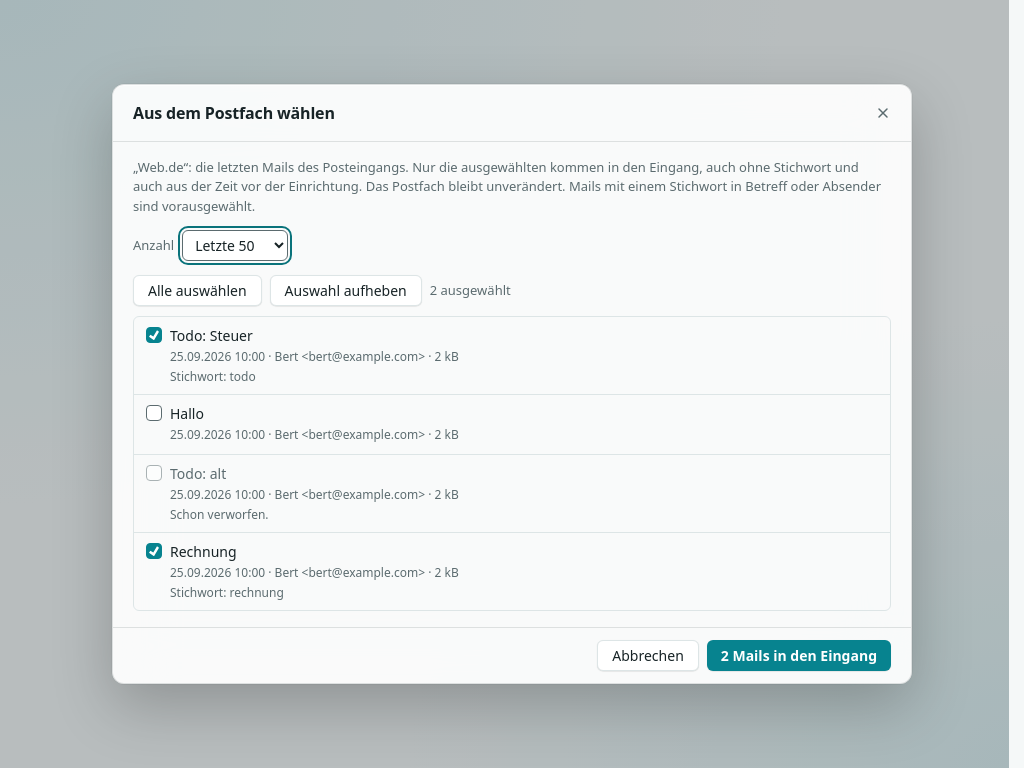
Scenario: MailboxPicker › lists the last 50 mails with keyword matches chosen and mails in the inbox blocked
Expected: the text "Todo: Steuer" is shown, [170,326,253,345]
Expected: the 1st checkbox is checked, [146,327,162,343]
What coordinates should you click on to do the following:
click the button "Alle auswählen"
I would click on:
 (197, 291)
Its box is [133,275,262,306].
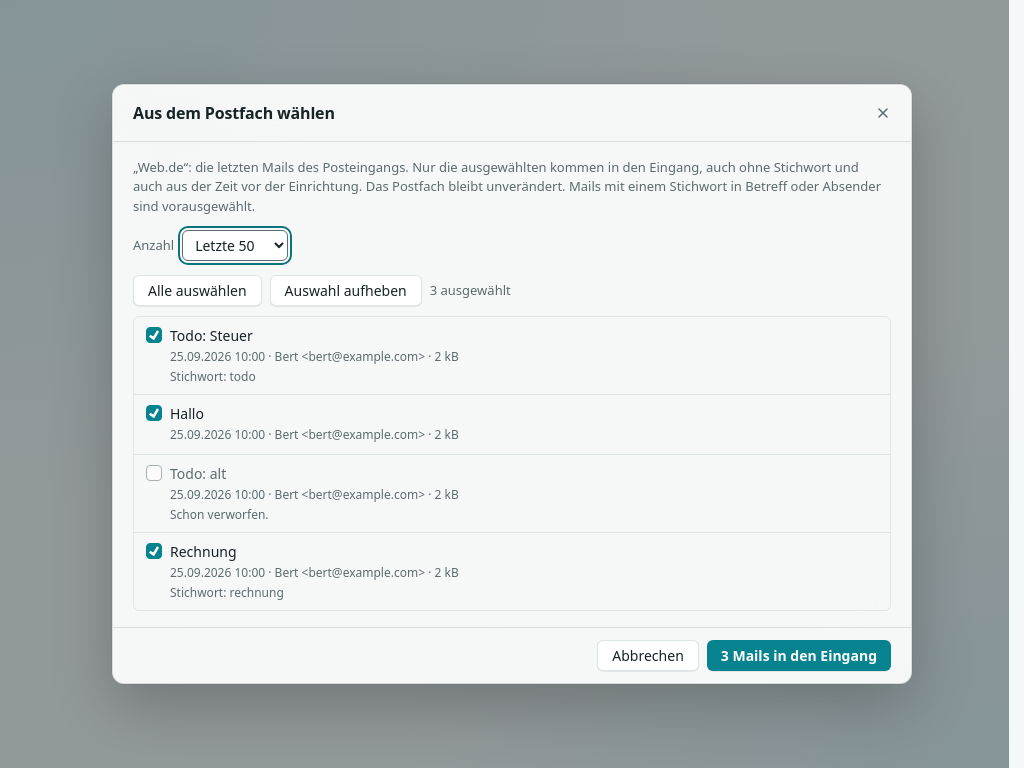
Result: the text "3 ausgewählt" is shown at [430,281,511,300]
What coordinates should you click on to do the following:
click the button "Auswahl aufheben"
I would click on:
 (346, 291)
Its box is [270,275,422,306].
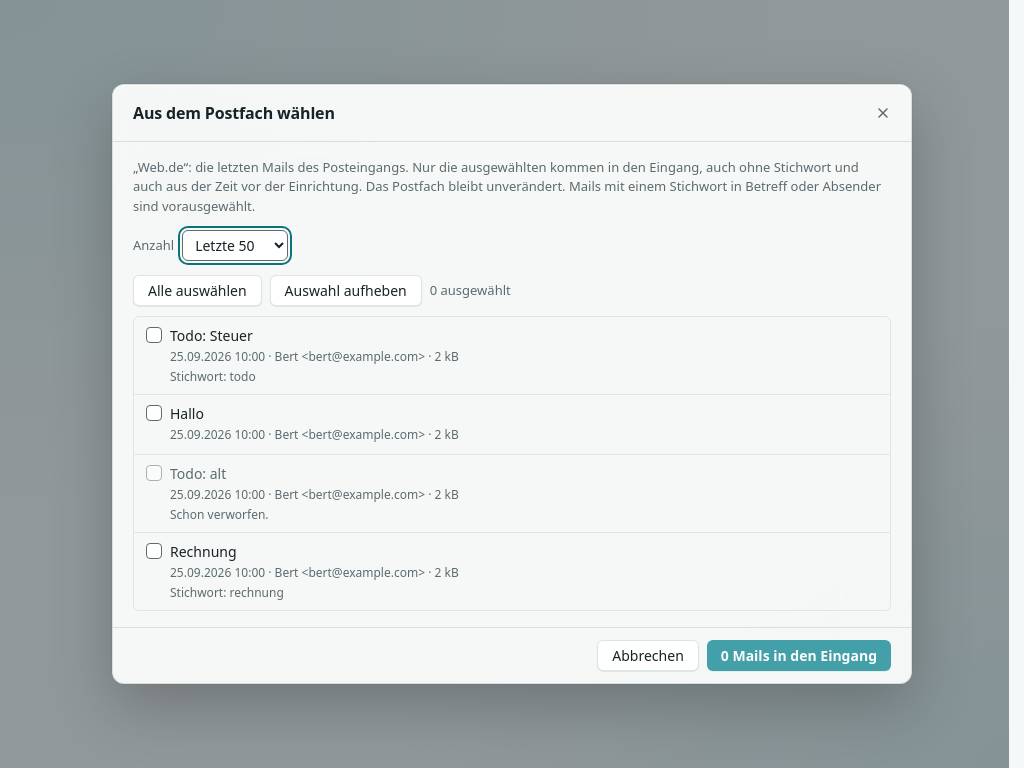
Result: the text "0 ausgewählt" is shown at [430,281,511,300]
